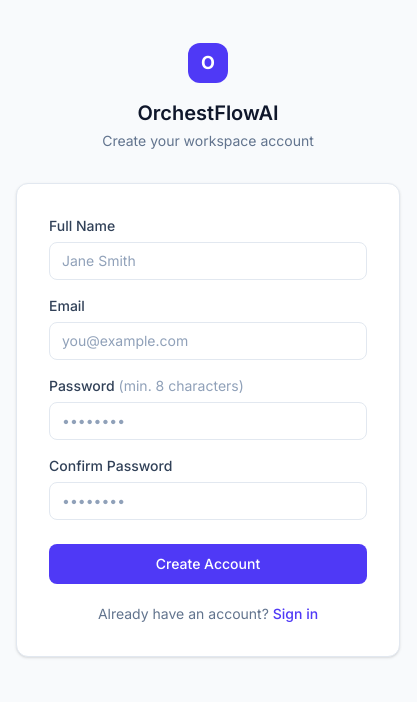
Scenario: SignupPage › displays API error for duplicate email
In the field labelled "Full Name": (208,261) [49,242,367,280], type "Jane"
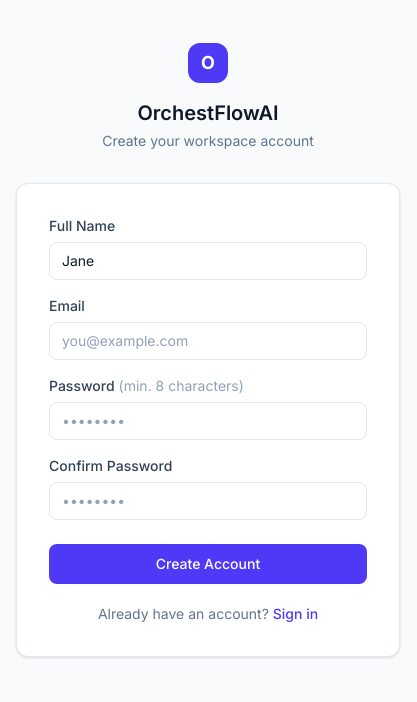
In the field labelled "Email": (208,341) [49,322,367,360], type "taken@example.com"
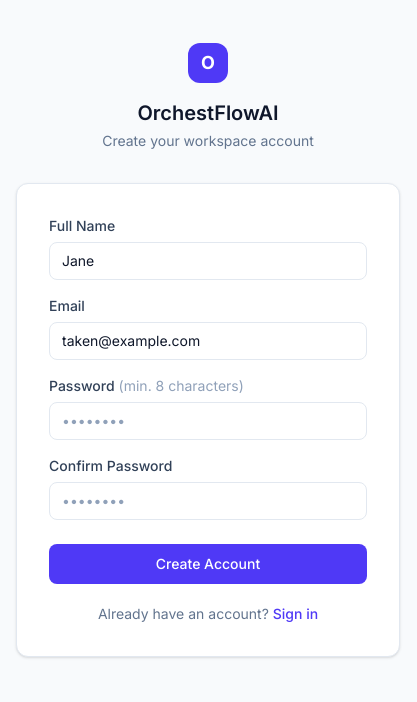
In the password field labelled "Password(min. 8 characters)": (208,421) [49,402,367,440], type "password123"
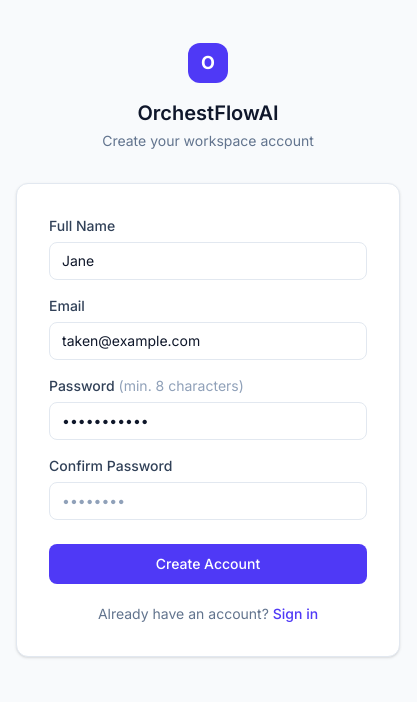
In the password field labelled "Confirm Password": (208,501) [49,482,367,520], type "password123"
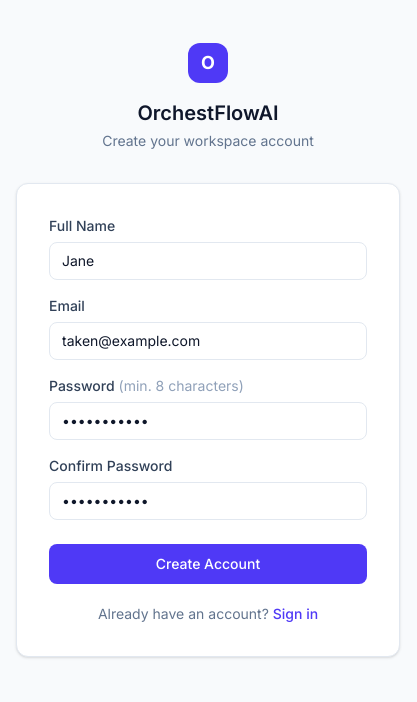
Click the button "Create Account": (208,564) [49,544,367,584]
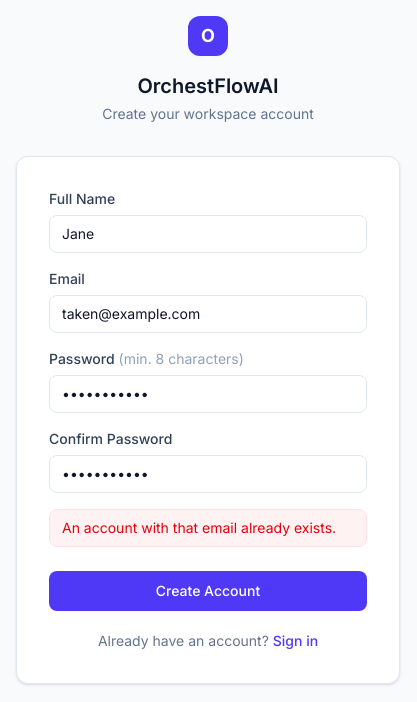
Result: the text "An account with that email already exists." is shown at [49,509,367,547]
